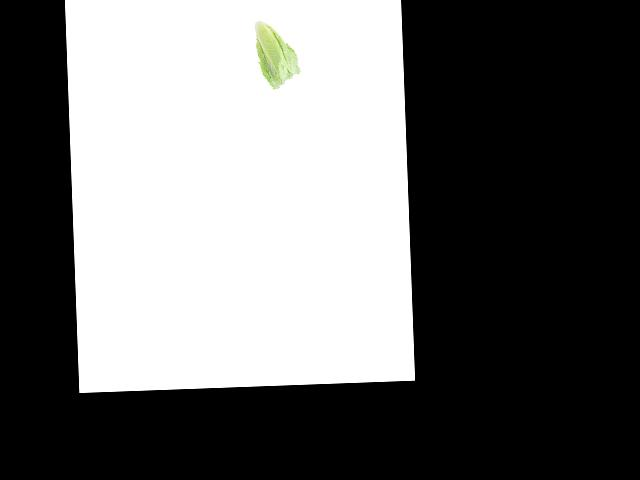lettuce: (253, 13, 301, 90)
